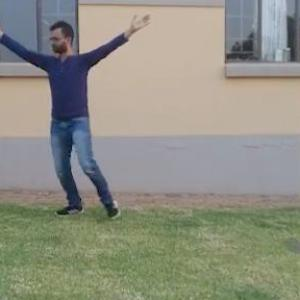takeoff: (0, 15, 153, 210)
